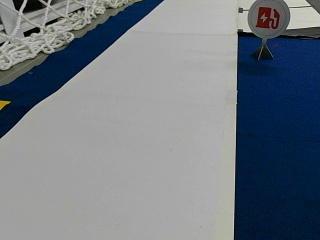battery: (247, 0, 289, 38)
